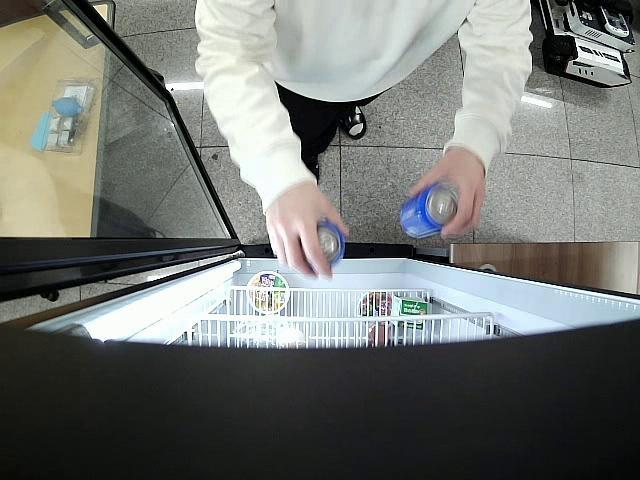13_pocariSweat: (398, 183, 458, 238), (312, 219, 346, 269)
